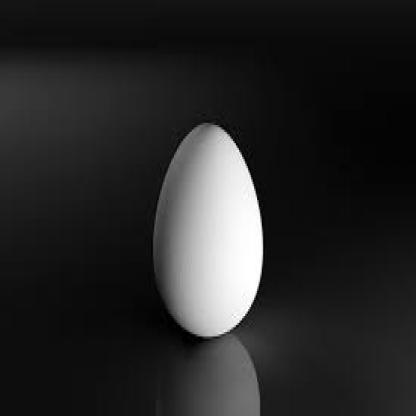egg: (152, 120, 264, 338)
